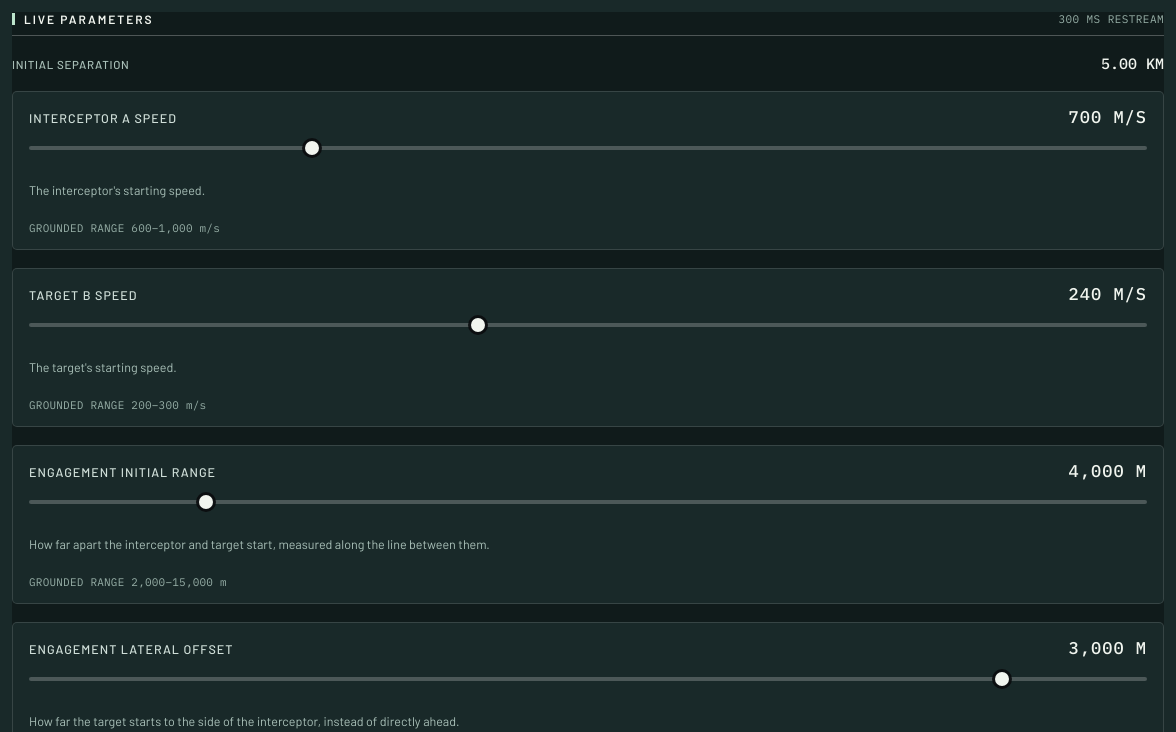
Test case: LiveParameterControls › shows the 3-D initial separation and updates it with the range slider
Expected: the text "5.00 KM" is shown, [1101, 54, 1164, 73]
Set the slider named "Engagement initial range" to "0". click: point(588, 502)
box: [29, 492, 1147, 512]
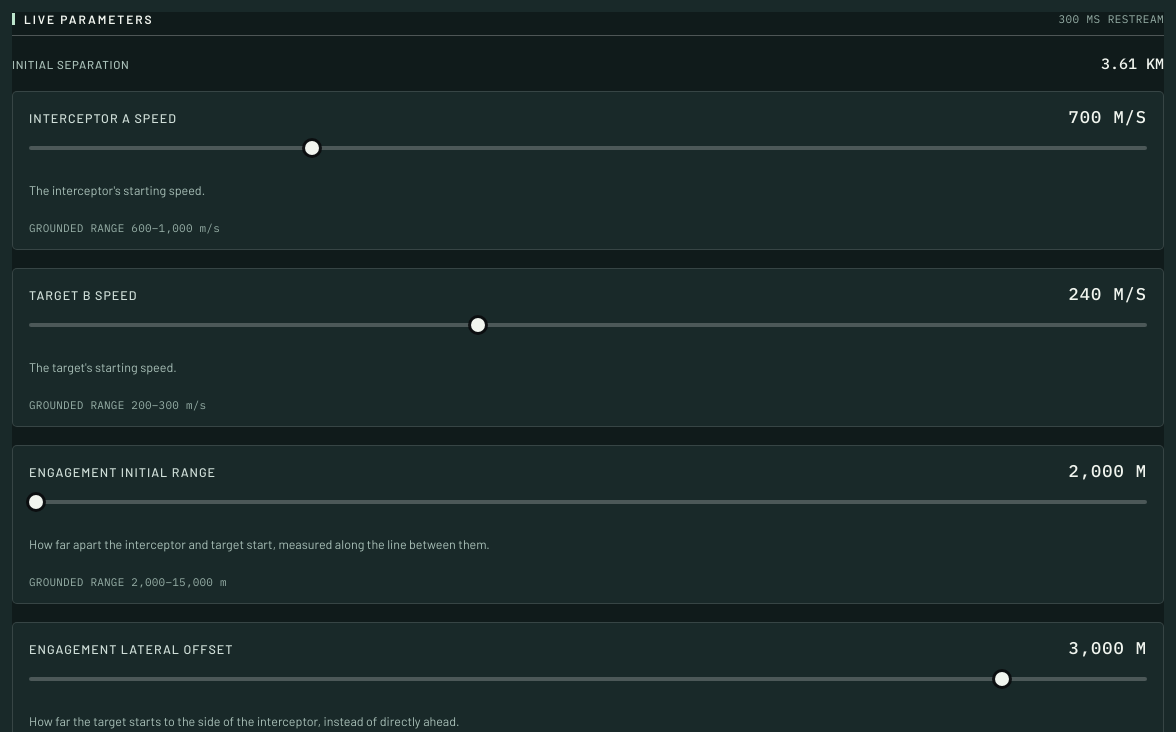
Expected: the text "3.61 KM" is shown, [1101, 54, 1164, 73]
